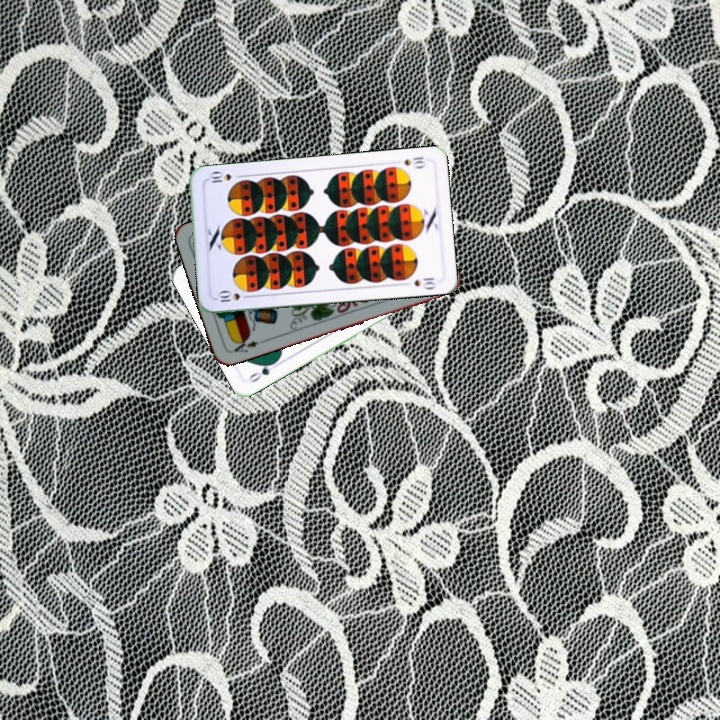EA: (230, 333, 267, 355)
GO: (245, 357, 282, 385)
S10: (213, 288, 253, 305), (400, 152, 427, 168)
